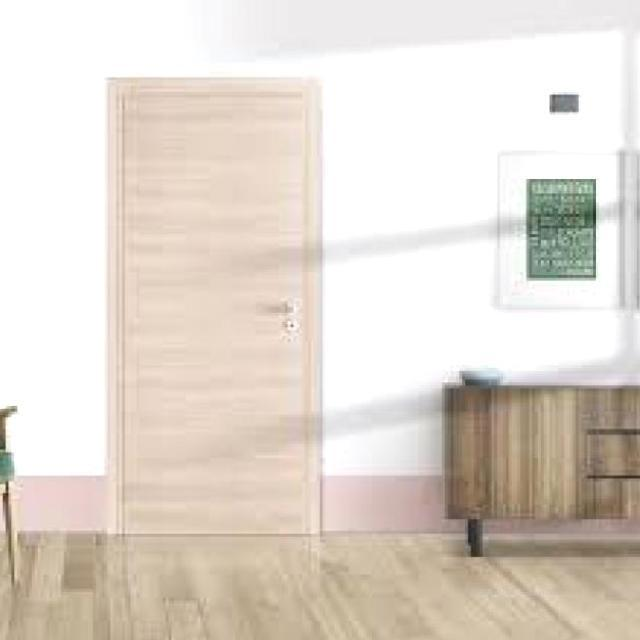door: (106, 76, 322, 536)
